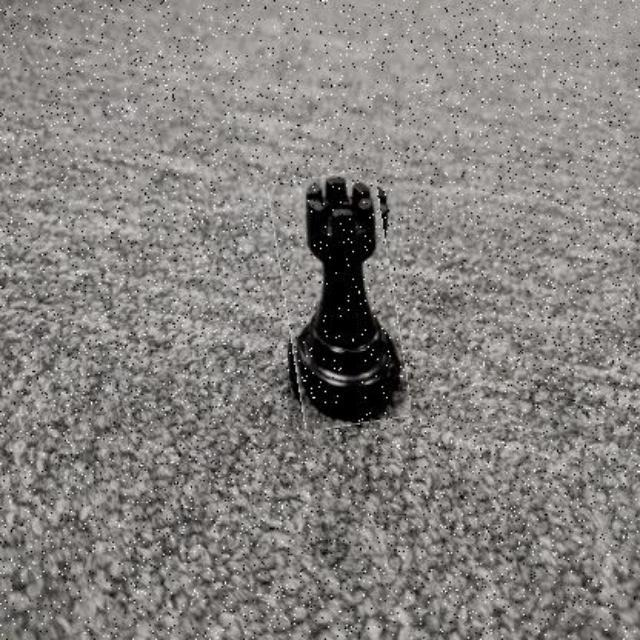black-rook: (277, 172, 403, 428)
